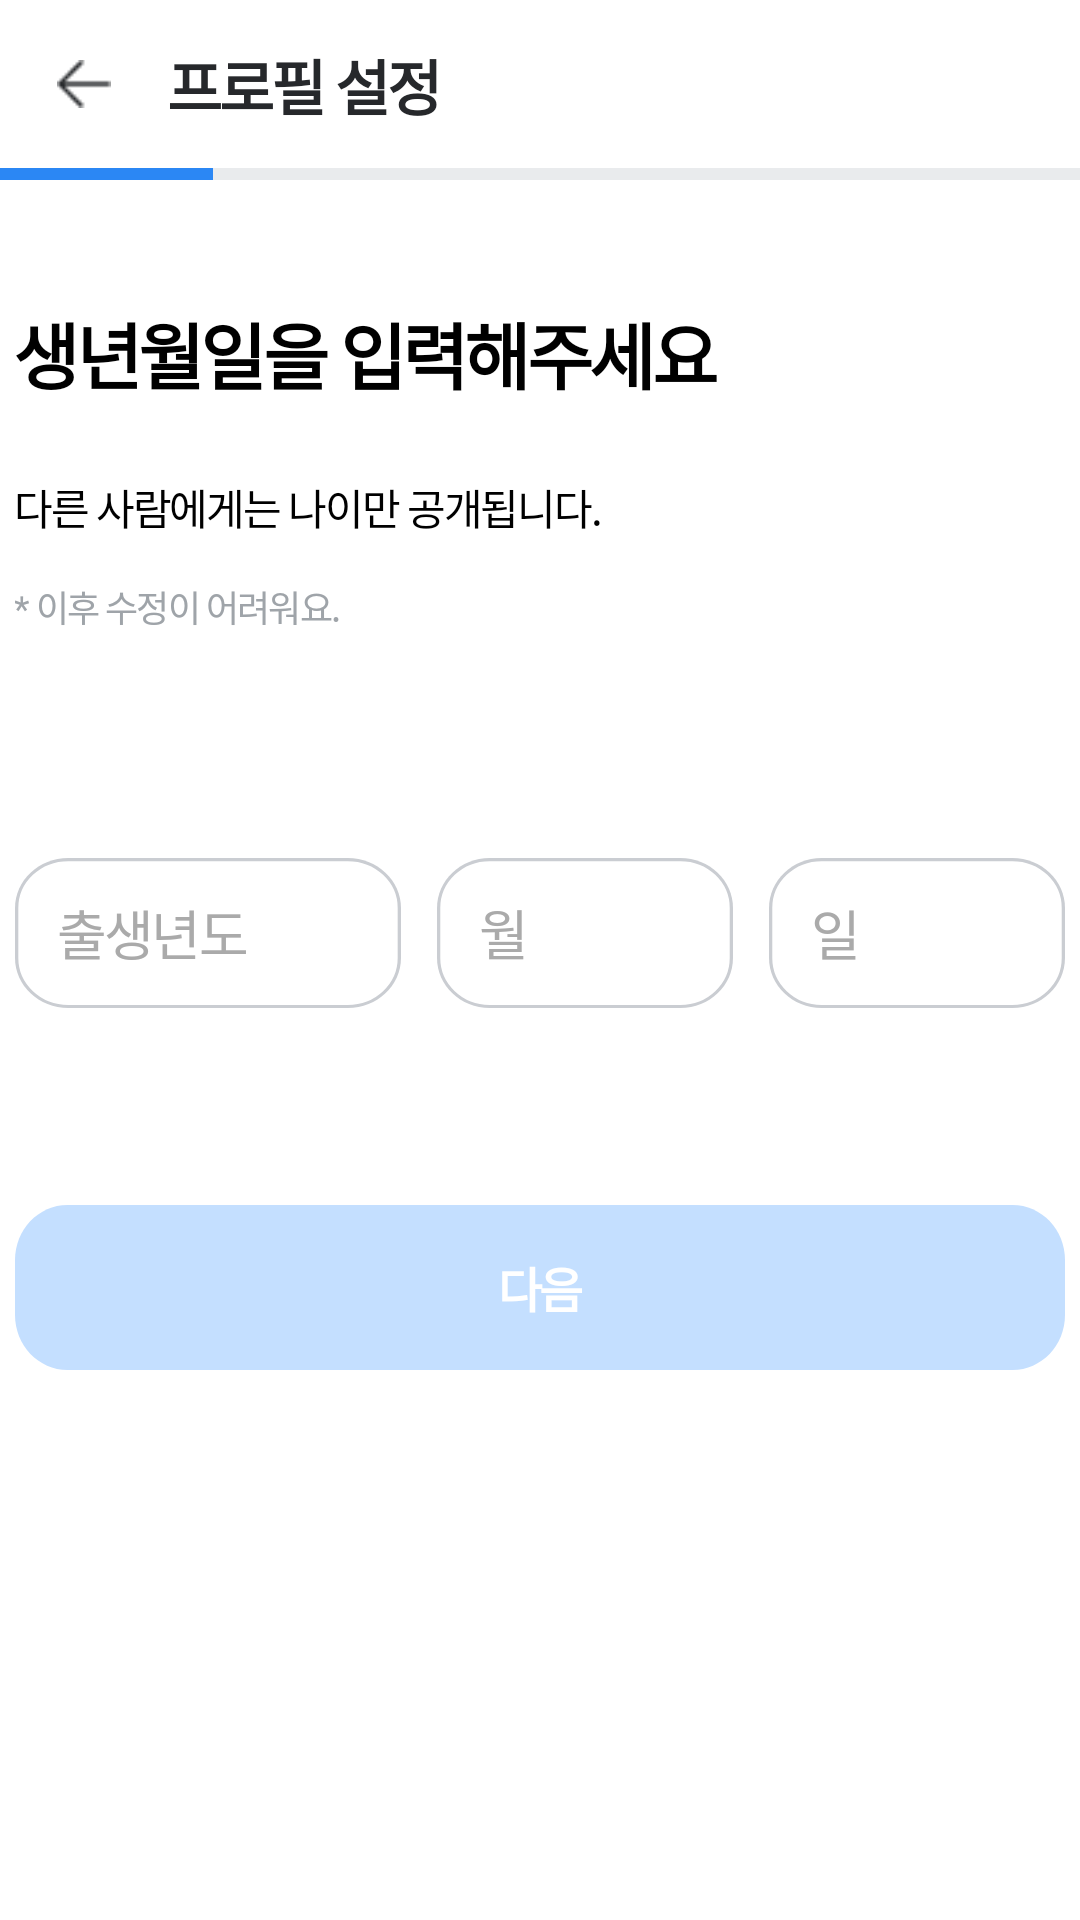

Icons on this 1080w x 1920h Android screen, each with the point to tap as point (x, y):
backbtn: point (84, 84)
